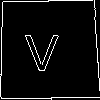V: (24, 25, 60, 72)
